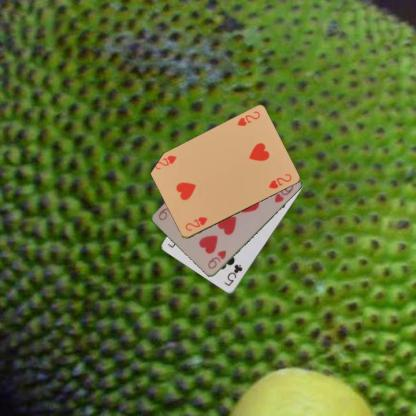2h: (182, 214, 209, 233), (234, 108, 261, 127)
5c: (221, 262, 244, 288)
9h: (204, 248, 228, 270)
